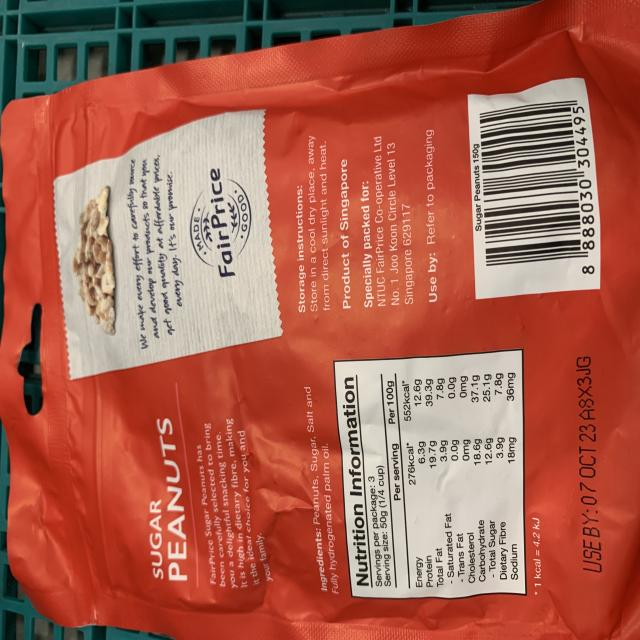object_name: (11, 56, 637, 623)
